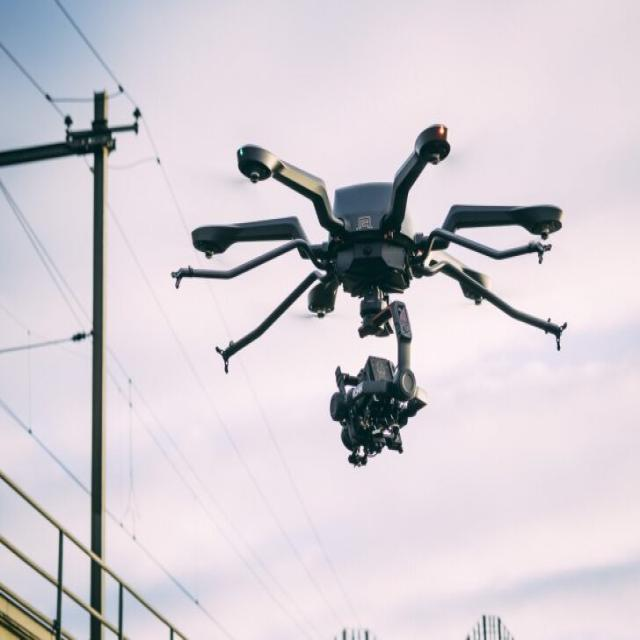drone: (165, 115, 602, 500)
